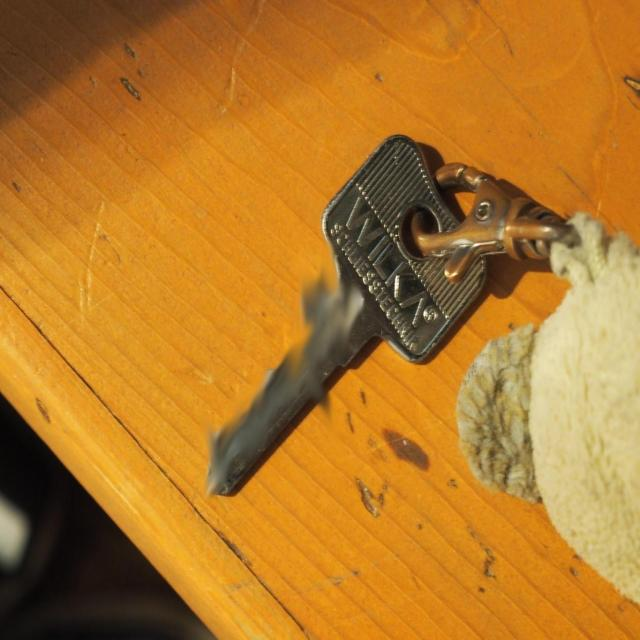Frontdoor keys: (197, 129, 489, 503)
